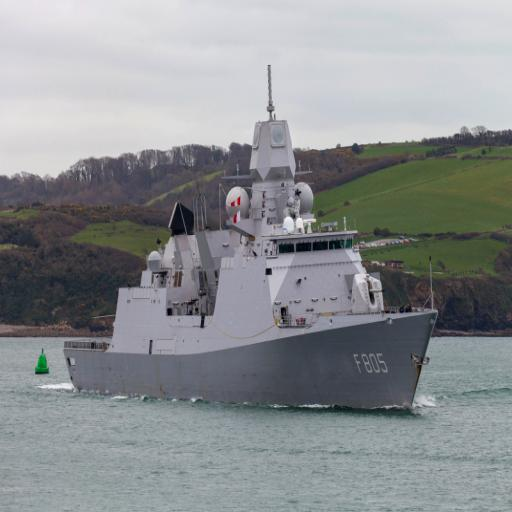Fragata: (63, 63, 439, 417)
